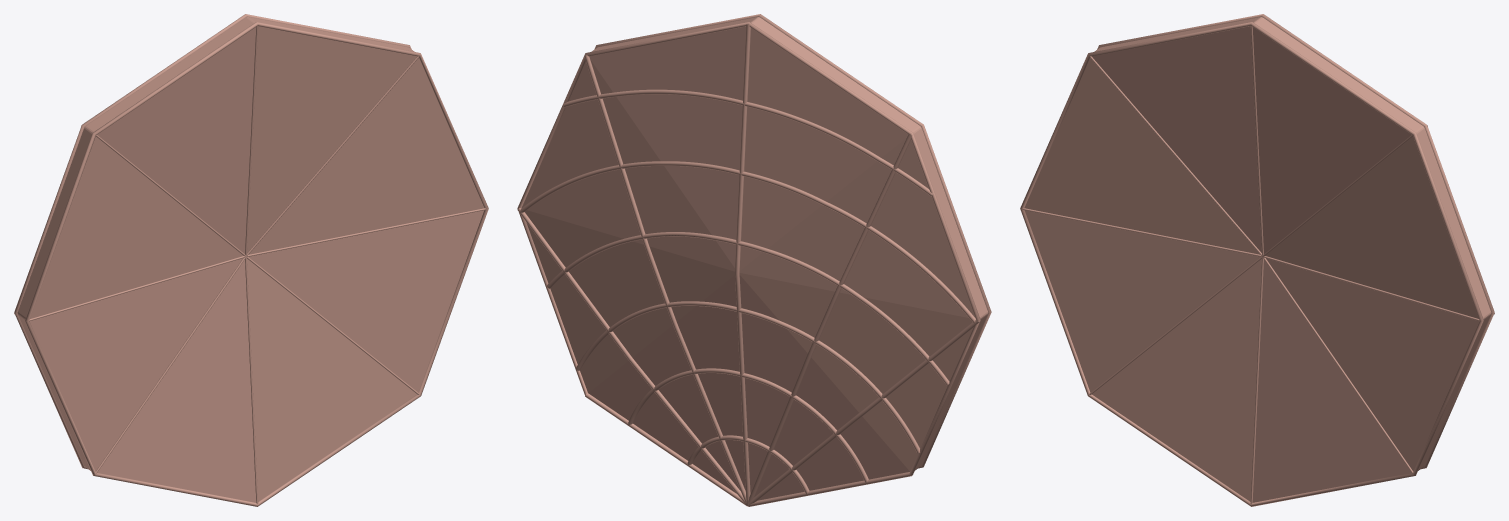
File: facet-copper.glb
3 renders of one model, left to right at view 1: azimuth 30°, elevation 25°; view 2: azimuth 150°, elevation 25°; view 3: azimuth 330°, elevation 25°, orthographic.
Parts seen in each view (by area): view 1: Closed eight-sided double-face plate.001, Front octagonal rim.001, Reverse rolled rim.001, Front radial crease.011, Front radial crease.015, Front radial crease.012, Front radial crease.014, Front radial crease.008, Front radial crease.010, Front radial crease.013; view 2: Closed eight-sided double-face plate.001, Reverse rolled rim.001, Reverse concentric lattice.010, Front octagonal rim.001, Reverse fan strut.007, Reverse concentric lattice.009, Reverse fan strut.013, Reverse concentric lattice.008, Reverse concentric lattice.011, Reverse fan strut.008, Reverse fan strut.012, Reverse concentric lattice.007 (+4 smaller); view 3: Closed eight-sided double-face plate.001, Front octagonal rim.001, Reverse rolled rim.001, Front radial crease.013, Front radial crease.009, Front radial crease.012, Front radial crease.010, Front radial crease.008, Front radial crease.014, Front radial crease.011.
Part boxes in pixels (box(x1,y1,x2,y2)): Closed eight-sided double-face plate.001: box(17, 17, 484, 502); Front octagonal rim.001: box(25, 22, 488, 506); Reverse rolled rim.001: box(14, 14, 411, 468); Front radial crease.011: box(95, 257, 245, 473); Front radial crease.015: box(246, 56, 419, 256); Front radial crease.012: box(245, 257, 258, 504); Front radial crease.014: box(247, 208, 486, 256); Front radial crease.008: box(245, 26, 258, 256); Front radial crease.010: box(29, 256, 245, 321); Front radial crease.013: box(246, 256, 419, 394); Closed eight-sided double-face plate.001: box(522, 17, 988, 500); Reverse rolled rim.001: box(517, 22, 980, 475); Reverse concentric lattice.010: box(520, 161, 975, 323); Front octagonal rim.001: box(594, 14, 991, 468); Reverse fan strut.007: box(735, 24, 750, 505); Reverse concentric lattice.009: box(547, 232, 949, 385); Reverse fan strut.013: box(584, 55, 747, 505); Reverse concentric lattice.008: box(576, 301, 919, 453); Reverse concentric lattice.011: box(563, 89, 932, 196); Reverse fan strut.008: box(748, 134, 911, 505); Reverse fan strut.012: box(517, 208, 746, 504); Reverse concentric lattice.007: box(628, 368, 868, 482); Closed eight-sided double-face plate.001: box(1024, 17, 1491, 502); Front octagonal rim.001: box(1020, 22, 1483, 506); Reverse rolled rim.001: box(1097, 14, 1494, 468); Front radial crease.013: box(1263, 257, 1413, 473); Front radial crease.009: box(1089, 56, 1262, 256); Front radial crease.012: box(1250, 257, 1263, 504); Front radial crease.010: box(1022, 208, 1261, 256); Front radial crease.008: box(1250, 26, 1263, 256); Front radial crease.014: box(1263, 256, 1479, 321); Front radial crease.011: box(1089, 256, 1262, 394).
Size of the model in its own units: 2.02 by 2.02 by 0.1872.
